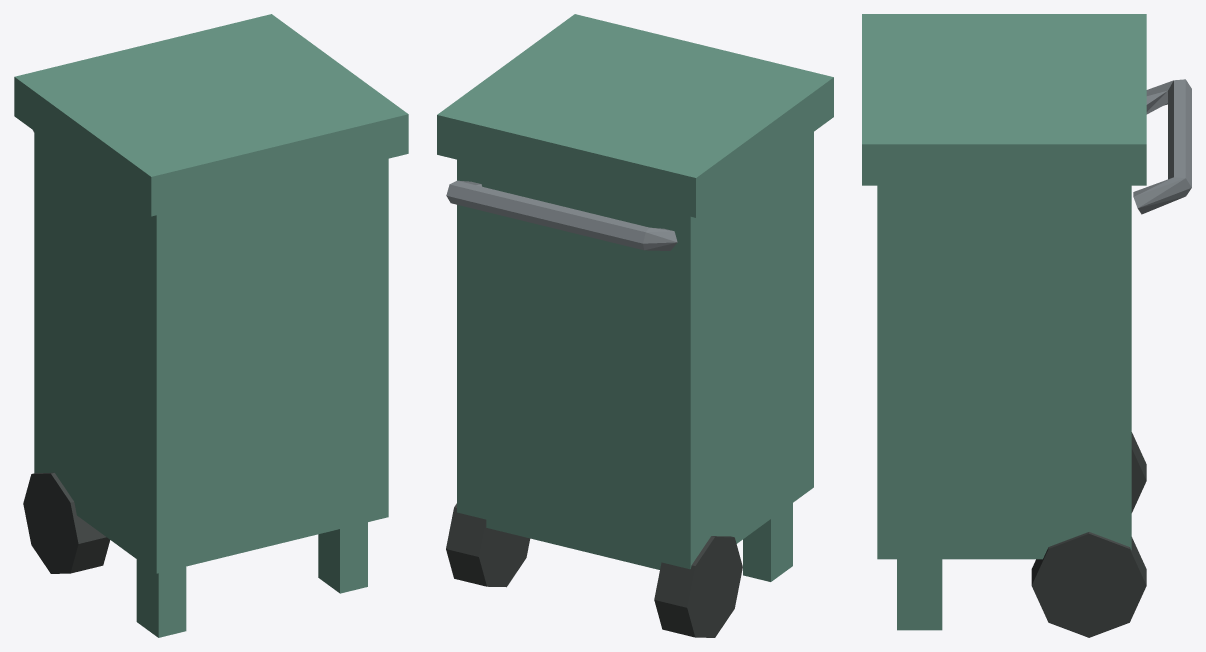
The model's file is TrashBinWheelie.glb.
3 renders of one model, left to right at view 1: azimuth 30°, elevation 25°; view 2: azimuth 150°, elevation 25°; view 3: azimuth 270°, elevation 25°, orthographic. The views are drawn at different scales.
Parts seen in each view (by area): view 1: ST_TrashBinWheelie_ST_green.001, ST_TrashBinWheelie_ST_black.001; view 2: ST_TrashBinWheelie_ST_green.001, ST_TrashBinWheelie_ST_black.001, ST_Bin_Push_Handle.001; view 3: ST_TrashBinWheelie_ST_green.001, ST_TrashBinWheelie_ST_black.001, ST_Bin_Push_Handle.001.
Boxes of the visible parts, <box> form: ST_TrashBinWheelie_ST_green.001: <box>14,14,408,637</box>; ST_TrashBinWheelie_ST_black.001: <box>23,472,109,573</box>; ST_TrashBinWheelie_ST_green.001: <box>437,14,833,581</box>; ST_TrashBinWheelie_ST_black.001: <box>446,503,742,637</box>; ST_Bin_Push_Handle.001: <box>446,180,677,250</box>; ST_TrashBinWheelie_ST_green.001: <box>862,14,1146,630</box>; ST_TrashBinWheelie_ST_black.001: <box>1031,432,1146,637</box>; ST_Bin_Push_Handle.001: <box>1133,79,1191,214</box>.
Size of the model in its own units: 0.51 by 0.9075 by 0.5447.
